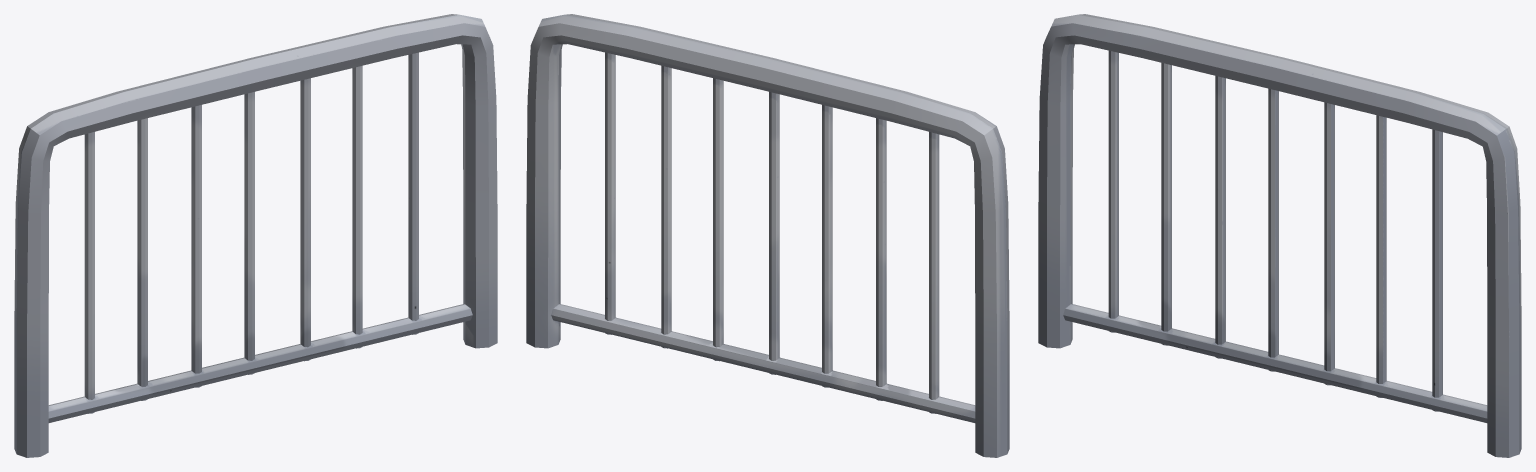
File: Fence.fbx
The picture shows the model from 3 angles, left to right: view 1: azimuth 30°, elevation 25°; view 2: azimuth 150°, elevation 25°; view 3: azimuth 330°, elevation 25°; orthographic projection.
Visible parts, largest first — view 1: Fence; view 2: Fence; view 3: Fence.
Part boxes in pixels (x1,y1,x2,y2): Fence: (14, 14, 497, 457); Fence: (526, 14, 1009, 457); Fence: (1038, 14, 1521, 457).
Size of the model in its own units: 1.76 by 1.18 by 0.11.
